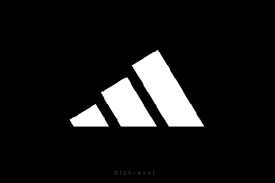adidas: (69, 49, 205, 126)
